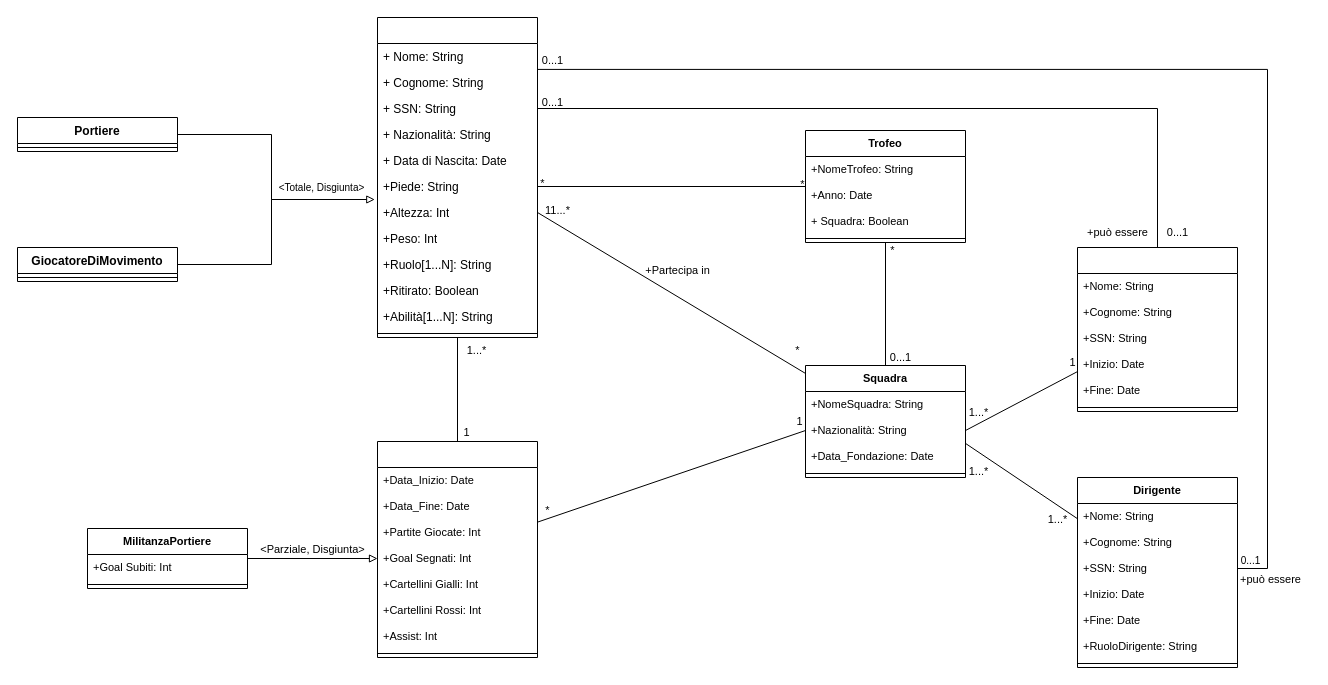
Image size: 1328x685. Some labels were removed from this diagram. The box of each missing label's shape, as (x1, y1, x2, y2) in pixels:
Allenatore: (1076, 246, 1238, 412)
Giocatore: (376, 16, 538, 338)
Militanza: (376, 440, 538, 658)
